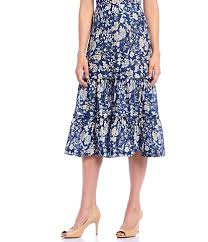C_skirt: (60, 4, 183, 165)
